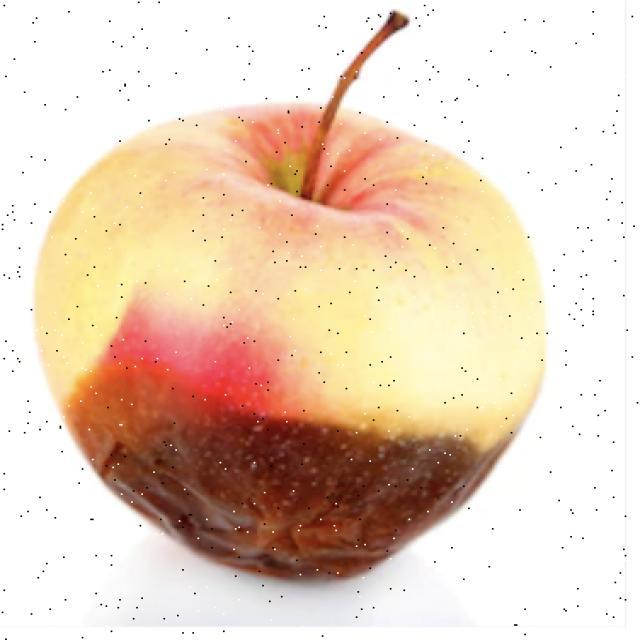Rotten: (50, 115, 538, 582)
